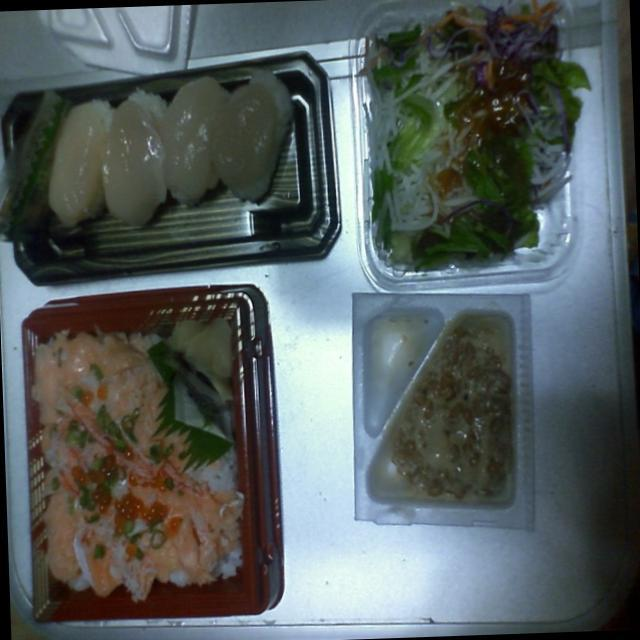Sushi: (27, 52, 310, 248)
